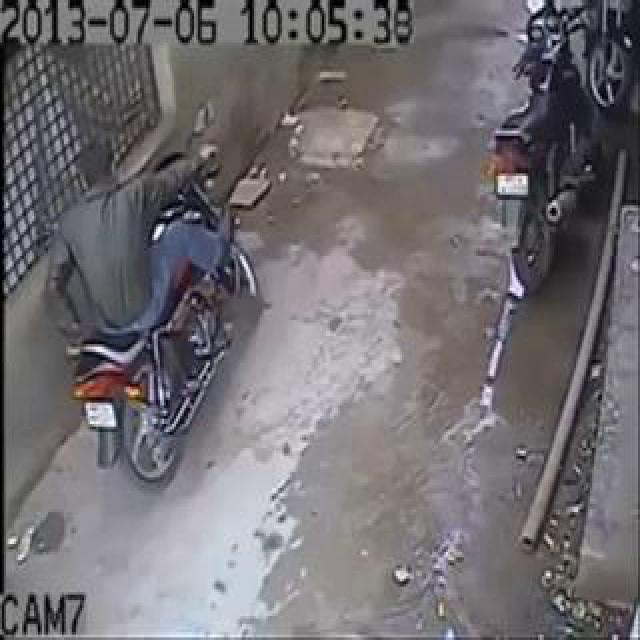stealing: (88, 8, 266, 577)
